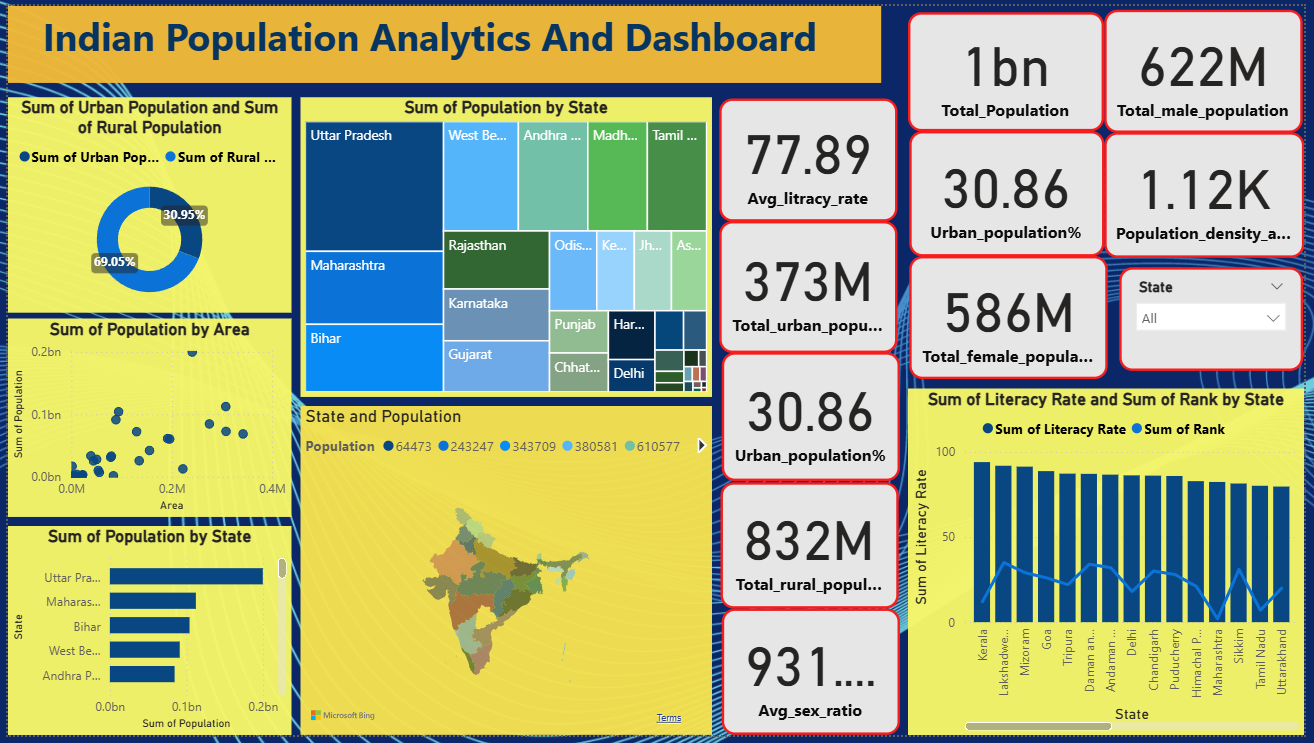

Layout of this report page (visuals, bound fields, positions):
{"tool":"powerbi","page":{"name":"Page 1","canvas":[1280,720],"ordinal":0},"visuals":[{"type":"textbox","box":[0,0,862.5,76.2],"z":0},{"type":"card","fields":{"Values":["population (1).Total_Population"]},"box":[888.8,6.2,193.8,117.5],"z":1000},{"type":"card","fields":{"Values":["population (1).Total_male_population"]},"box":[1082.5,3.8,196.2,121.2],"z":2000},{"type":"card","fields":{"Values":["population (1).Total_female_population"]},"box":[890,247.5,196.2,121.2],"z":3000},{"type":"card","fields":{"Values":["population (1).Avg_litracy_rate"]},"box":[702.5,91.2,176.2,121.2],"z":4000},{"type":"card","fields":{"Values":["population (1).Avg_sex_ratio"]},"box":[705,595,176.2,125],"z":5000},{"type":"card","fields":{"Values":["population (1).Total_rural_population"]},"box":[703.8,470,176.2,125],"z":6000},{"type":"card","fields":{"Values":["population (1).Total_urban_population"]},"box":[702.5,212.5,176.2,130],"z":7000},{"type":"card","fields":{"Values":["population (1).Urban_population%"]},"box":[705,342.5,176.2,127.5],"z":8000},{"type":"card","fields":{"Values":["population (1).Population_density_avg"]},"box":[1082.5,125,197.5,123.8],"z":9000},{"type":"card","fields":{"Values":["population (1).Urban_population%"]},"box":[890,123.8,192.5,123.8],"z":10000},{"type":"donutChart","fields":{"Y":["Sum(population (1).Urban Population)","Sum(population (1).Rural Population)"]},"box":[0,90.6,280,212.9],"z":11000},{"type":"treemap","fields":{"Values":["Sum(population (1).Population)"],"Group":["population (1).State"]},"box":[288.8,90,406.2,296.2],"z":12000},{"type":"filledMap","fields":{"Category":["population (1).State"],"Series":["population (1).Population"]},"box":[288.8,395,406.2,325],"z":13000},{"type":"clusteredBarChart","fields":{"Category":["population (1).State"],"Y":["Sum(population (1).Population)"]},"box":[0,513.8,280,206.2],"z":14000},{"type":"scatterChart","fields":{"Y":["Sum(population (1).Population)"],"X":["population (1).Area"]},"box":[0,308.8,280,196.2],"z":15000},{"type":"lineClusteredColumnComboChart","fields":{"Y":["Sum(population (1).Literacy Rate)"],"Category":["population (1).State"],"Y2":["Sum(population (1).Rank)"]},"box":[888.8,377.5,391.2,342.5],"z":16000},{"type":"slicer","fields":{"Values":["population (1).State"]},"box":[1097.5,257.5,181.2,102.5],"z":17000}]}

Visuals, with their boxes in screenshot pixels (x1, y1, x2, y2), scaled from the page's 1280x720 canvas onto the 1314x743 screenshot:
textbox: <region>0, 0, 885, 79</region>
card - population (1).Total_Population: <region>912, 6, 1111, 128</region>
card - population (1).Total_male_population: <region>1111, 4, 1313, 129</region>
card - population (1).Total_female_population: <region>914, 255, 1115, 380</region>
card - population (1).Avg_litracy_rate: <region>721, 94, 902, 219</region>
card - population (1).Avg_sex_ratio: <region>724, 614, 905, 742</region>
card - population (1).Total_rural_population: <region>722, 485, 903, 614</region>
card - population (1).Total_urban_population: <region>721, 219, 902, 353</region>
card - population (1).Urban_population%: <region>724, 353, 905, 485</region>
card - population (1).Population_density_avg: <region>1111, 129, 1313, 257</region>
card - population (1).Urban_population%: <region>914, 128, 1111, 256</region>
donutChart - Sum(population (1).Urban Population) x Sum(population (1).Rural Population): <region>0, 93, 287, 313</region>
treemap - Sum(population (1).Population) x population (1).State: <region>296, 93, 713, 399</region>
filledMap - population (1).State x population (1).Population: <region>296, 408, 713, 742</region>
clusteredBarChart - population (1).State x Sum(population (1).Population): <region>0, 530, 287, 742</region>
scatterChart - Sum(population (1).Population) x population (1).Area: <region>0, 319, 287, 521</region>
lineClusteredColumnComboChart - Sum(population (1).Literacy Rate) x population (1).State: <region>912, 390, 1313, 742</region>
slicer - population (1).State: <region>1127, 266, 1313, 372</region>
